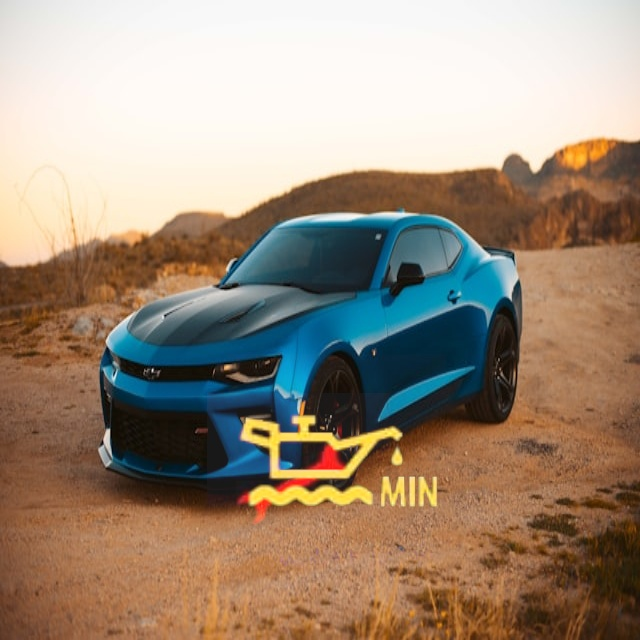symbol: (228, 354, 446, 572), (207, 393, 390, 576)
